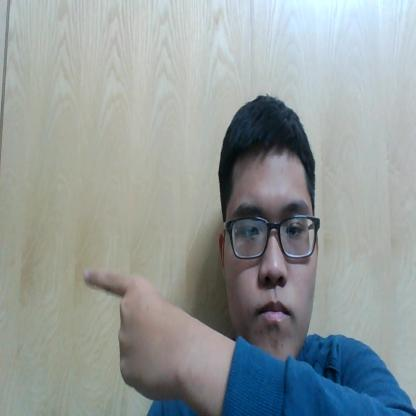right: (68, 254, 214, 408)
